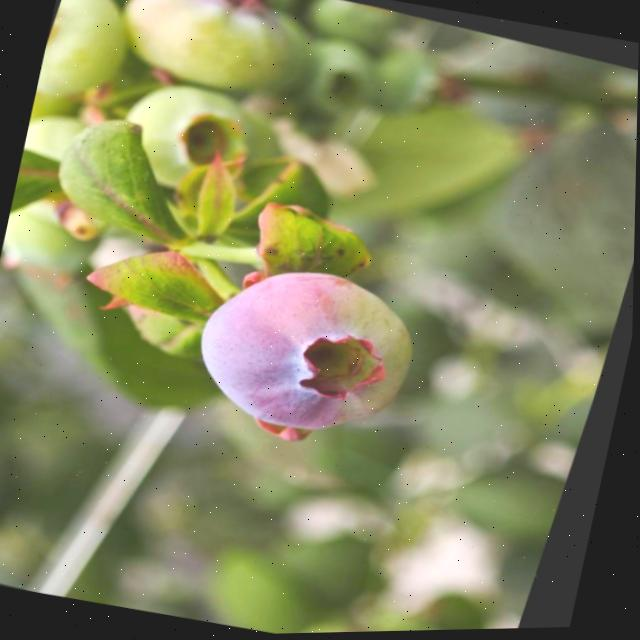Semi-RipeBlueBerry: (178, 241, 447, 461)
UnripeBlueBerry: (105, 0, 331, 114)
